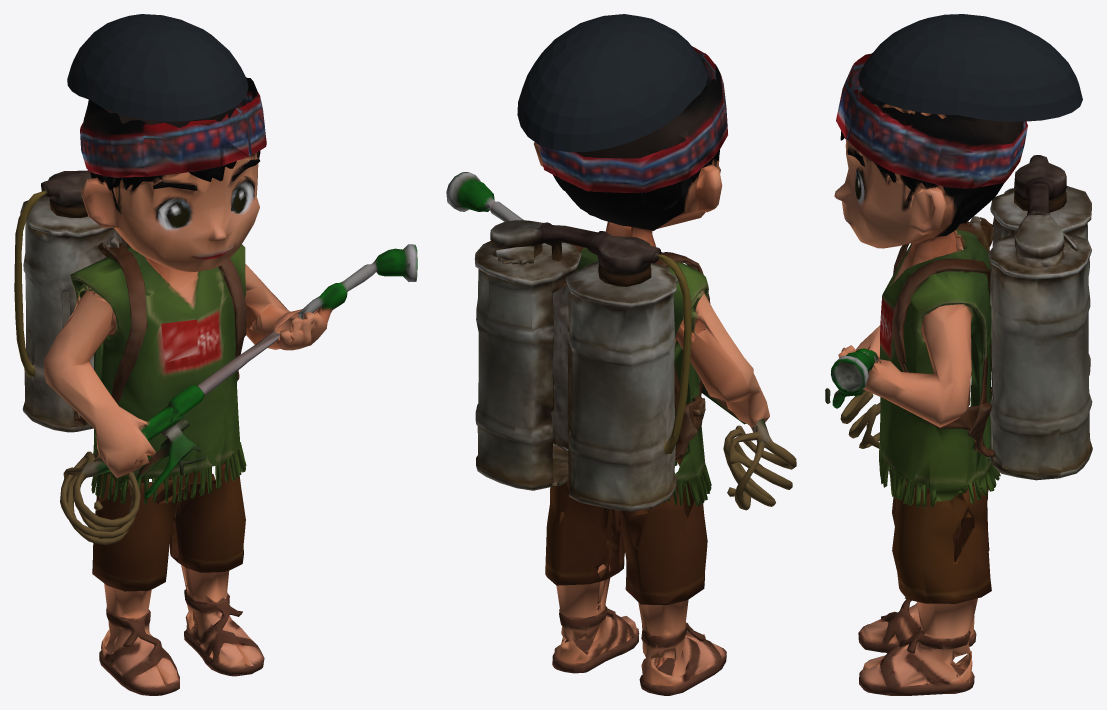
Rendered from munaw_textured.glb.
The picture shows the model from 3 angles, left to right: view 1: azimuth 30°, elevation 25°; view 2: azimuth 150°, elevation 25°; view 3: azimuth 270°, elevation 25°; orthographic projection. The views are drawn at different scales.
Parts seen in each view (by area): view 1: trellis.001; view 2: trellis.001; view 3: trellis.001.
Boxes of the visible parts, box(x1,y1,x2,y2) form: trellis.001: box(14, 14, 417, 695); trellis.001: box(446, 14, 796, 695); trellis.001: box(825, 14, 1092, 695).
Size of the model in its own units: 0.6246 by 1.1 by 0.4162.
Materials: 2 (1 with a texture image).
